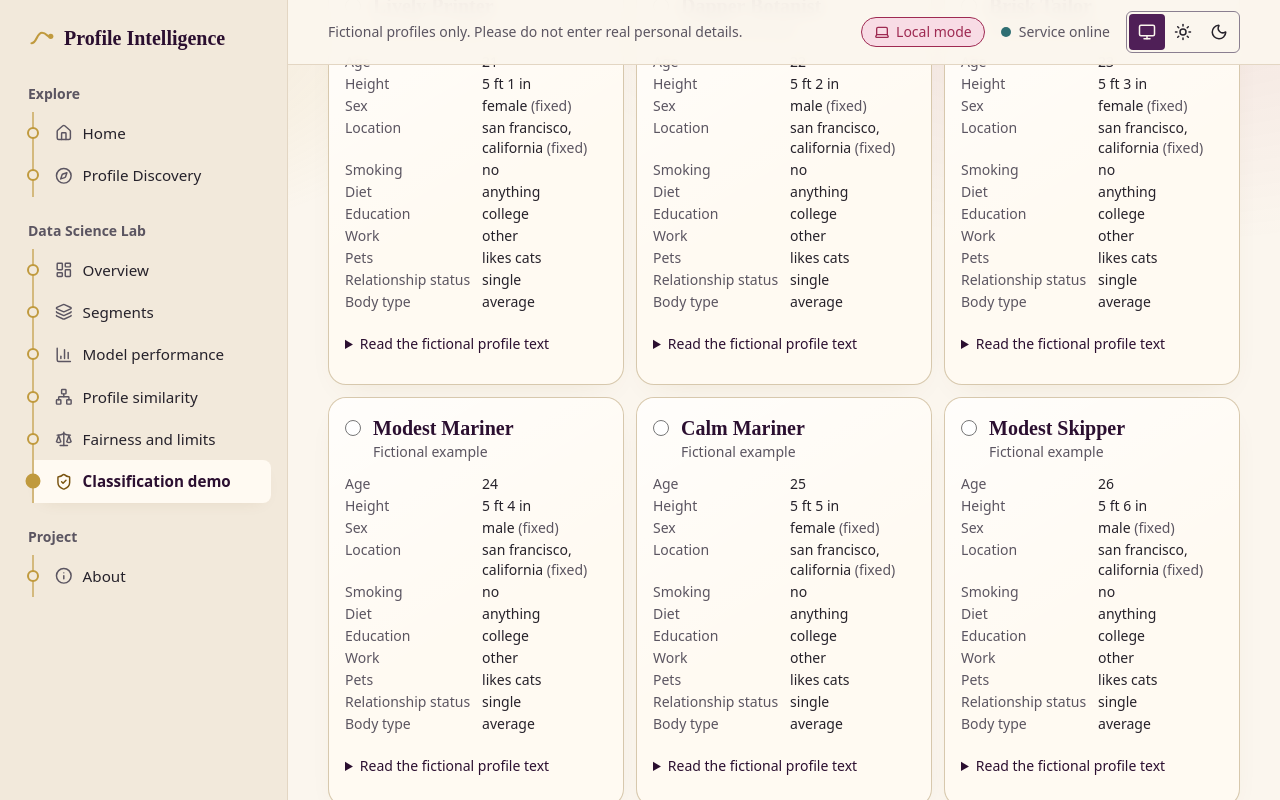
Test: the demonstration in local mode › says probabilities are estimates, not facts, and not true frequencies
(page scrolled)
Click the radio button labelled "Calm Mariner Fictional example" at [661, 428], box [653,420,669,436]
(page scrolled)
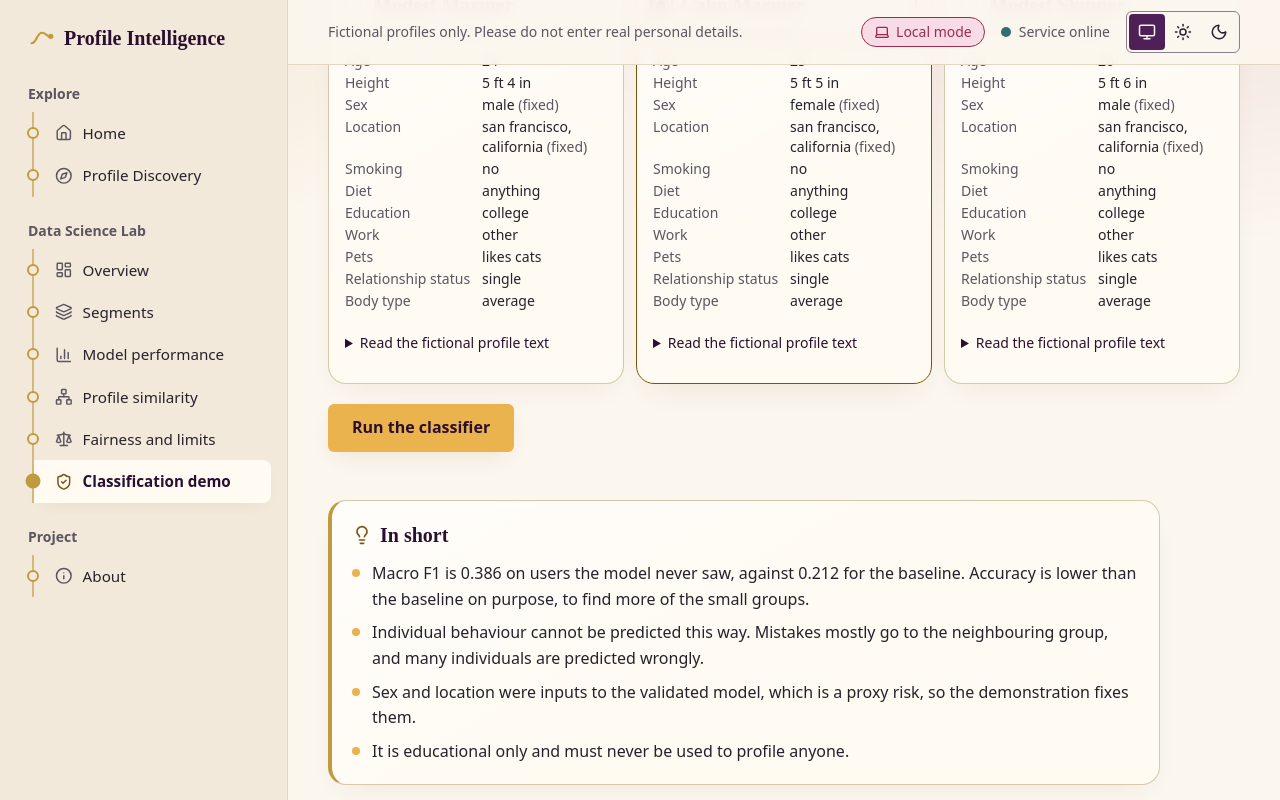
Click the button "Run the classifier" at [421, 428], box [328,404,514,452]
(page scrolled)
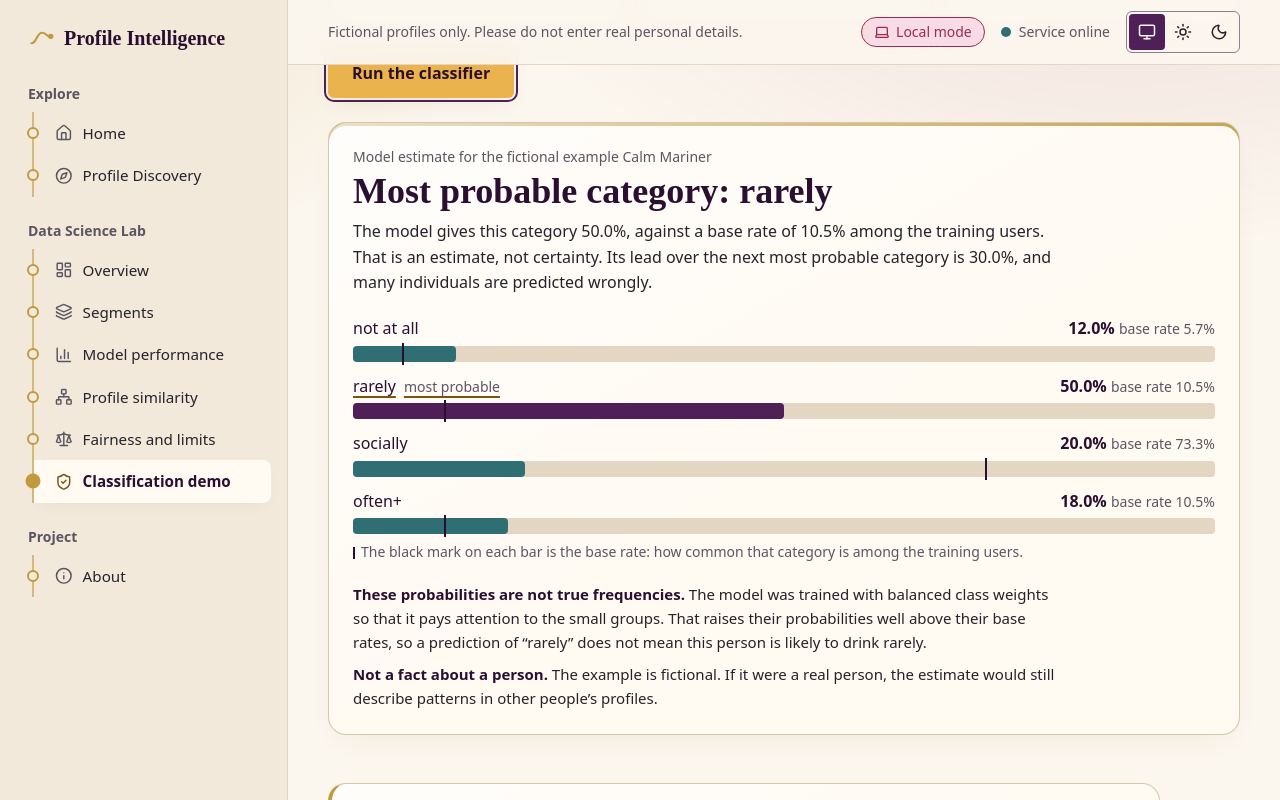
Now the element with test id "prediction" shows "That is an estimate, not certainty", box [353,220,1044,268]
Now the element with test id "prediction" shows "These probabilities are not true frequencies", box [353,584,685,604]
